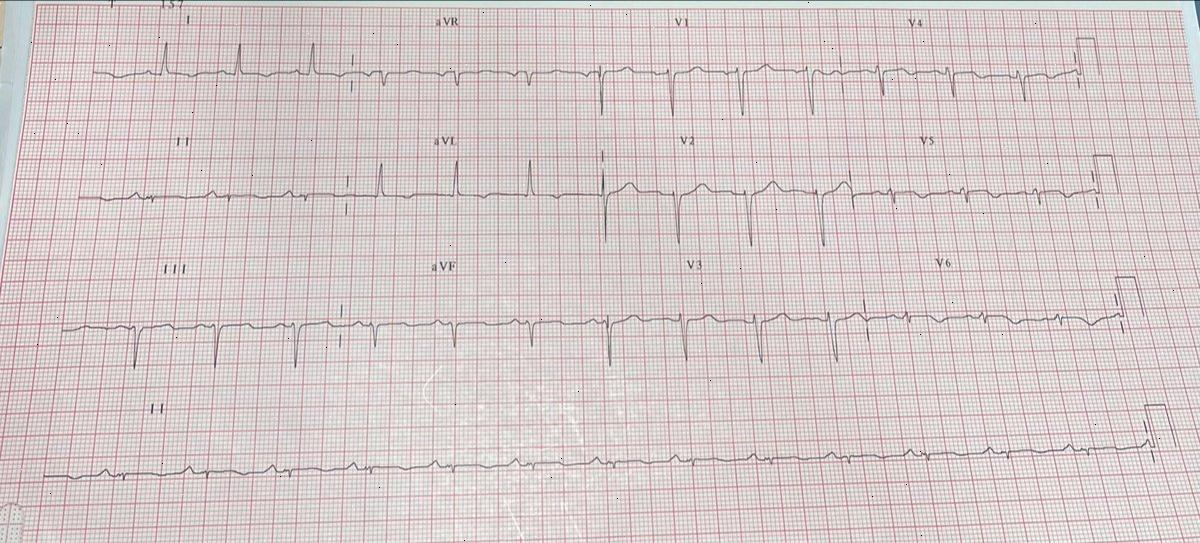Lead_I: (92, 15, 353, 110)
Lead_II: (77, 126, 348, 239)
Lead_III: (57, 247, 341, 379)
Lead_II_ext: (26, 390, 1154, 493)
Lead_V1: (602, 3, 844, 128)
Lead_V2: (600, 118, 854, 254)
Lead_V3: (604, 242, 871, 387)
Lead_V4: (833, 0, 1081, 112)
Lead_V5: (847, 123, 1099, 236)
Lead_V6: (864, 238, 1121, 356)
Lead_aVF: (336, 242, 609, 392)
Lead_aVL: (350, 119, 605, 246)
Lead_aVR: (357, 4, 602, 121)
